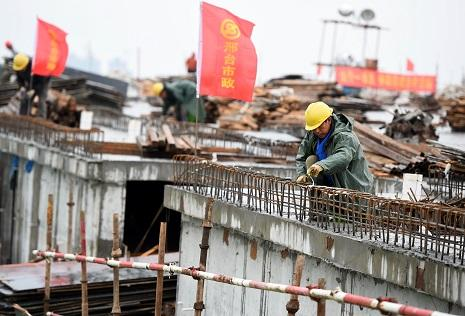helmet: (305, 102, 334, 130), (14, 55, 30, 73), (155, 83, 165, 97)
